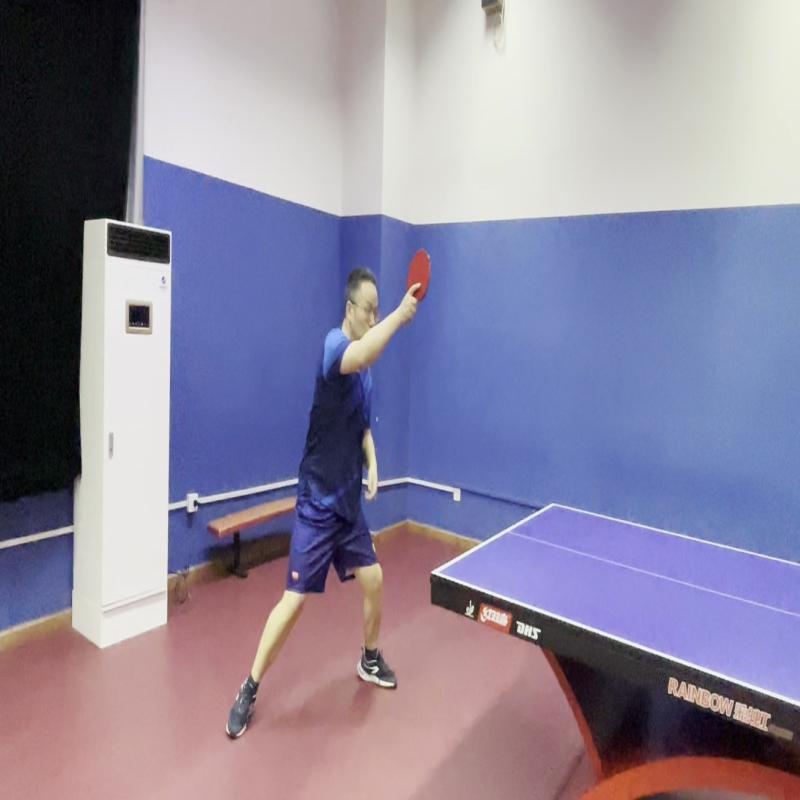bats: (404, 243, 435, 310)
